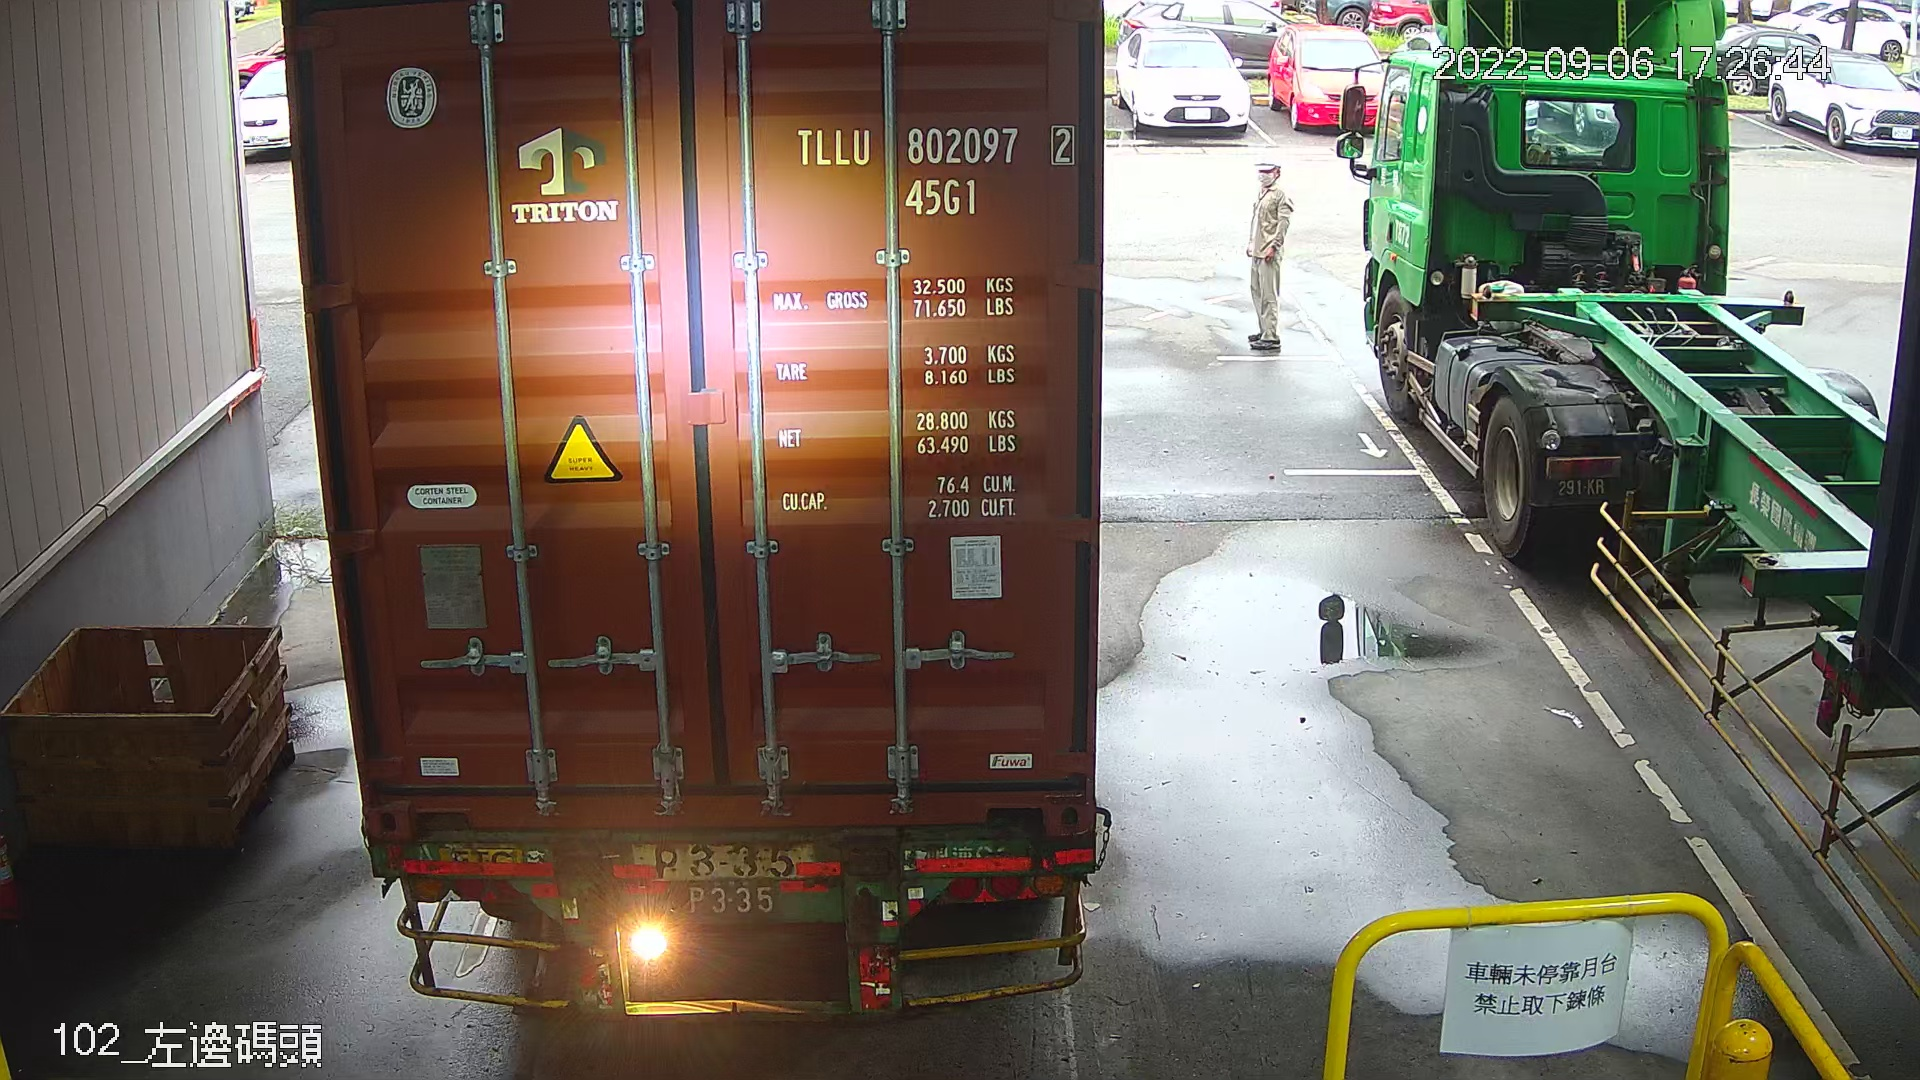container: (787, 113, 1085, 223)
